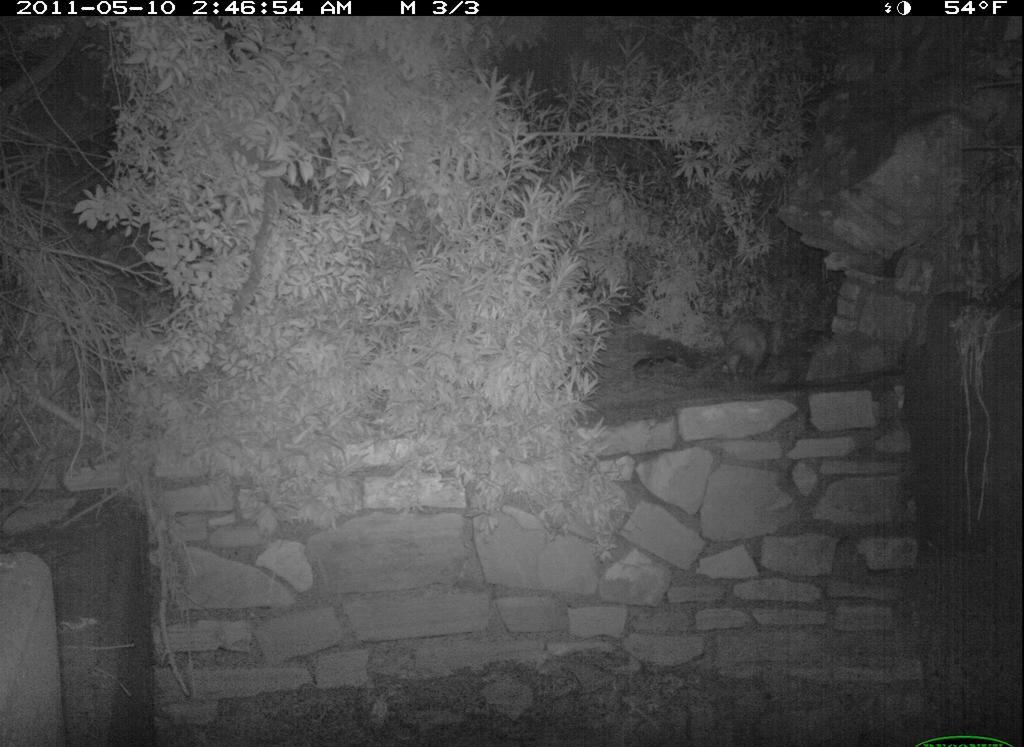opossum: (719, 316, 770, 390)
